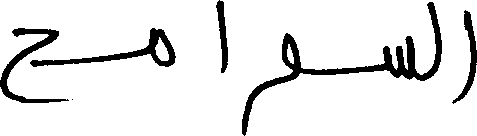ا: (460, 7, 475, 99), (214, 0, 230, 74)
ح: (0, 26, 57, 103)
س: (382, 34, 414, 80)
ل: (421, 0, 441, 81)
م: (147, 25, 174, 67)
و: (241, 30, 302, 134)
